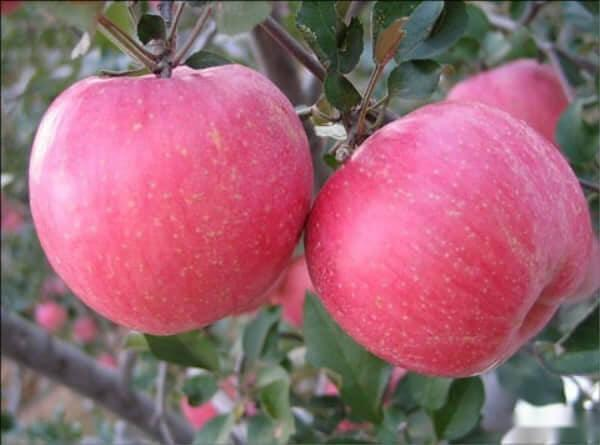apple: (301, 98, 597, 380), (20, 66, 313, 332)
